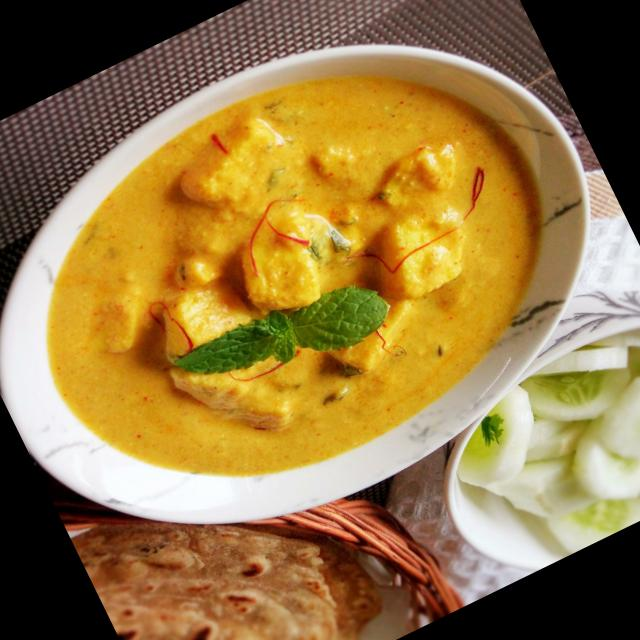ShahiPaneer: (0, 2, 599, 553)
